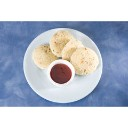idly: (73, 47, 97, 75), (33, 44, 56, 66), (52, 29, 70, 54)
